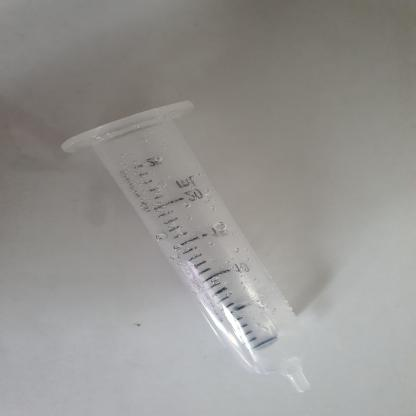wet: (41, 105, 343, 394)
